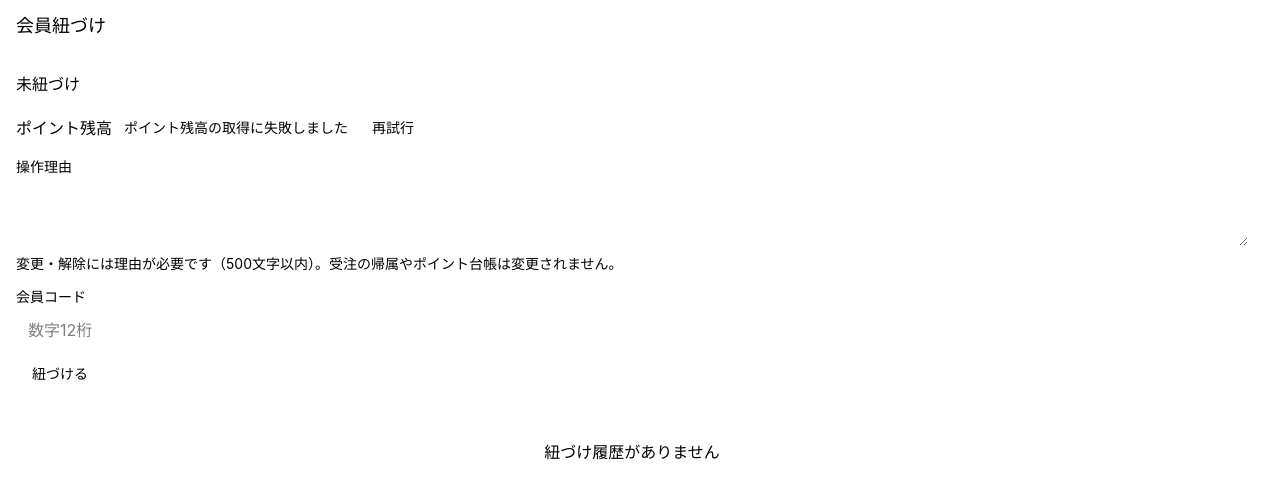
MemberLinkSection › 残高が読めないときは未紐づけの姿にせず、区画が自分で名乗って再試行できること
Expected: the text "ポイント残高の取得に失敗しました" is shown, [124,118,348,138]
Click the button "再試行": (393, 128) [360,112,426,144]
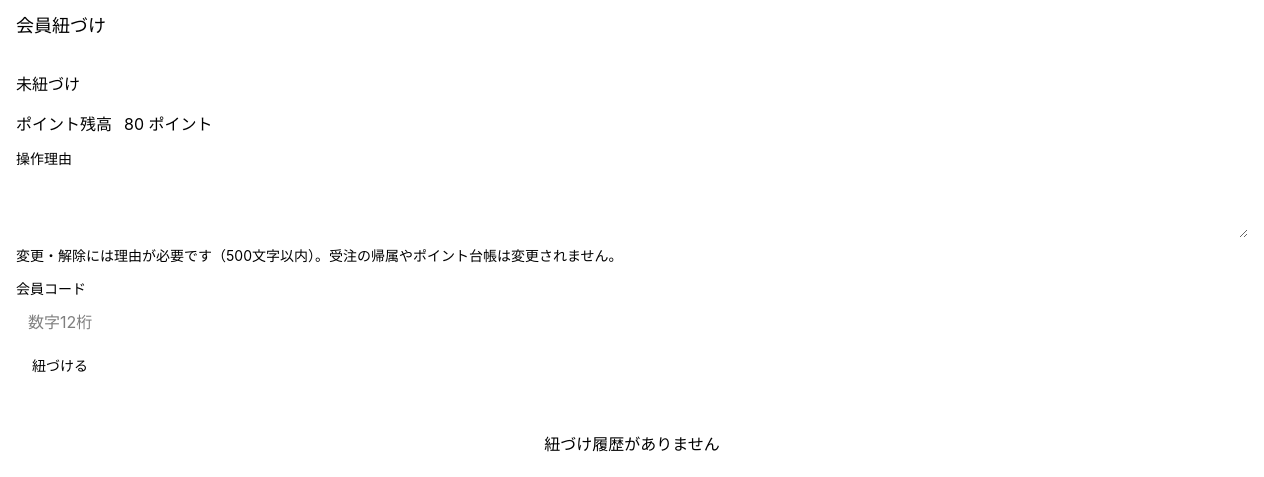
Expected: the text "80 ポイント" is shown, [124,112,212,136]
Expected: the message "ポイント残高の取得に失敗しました 再試行" is gone
